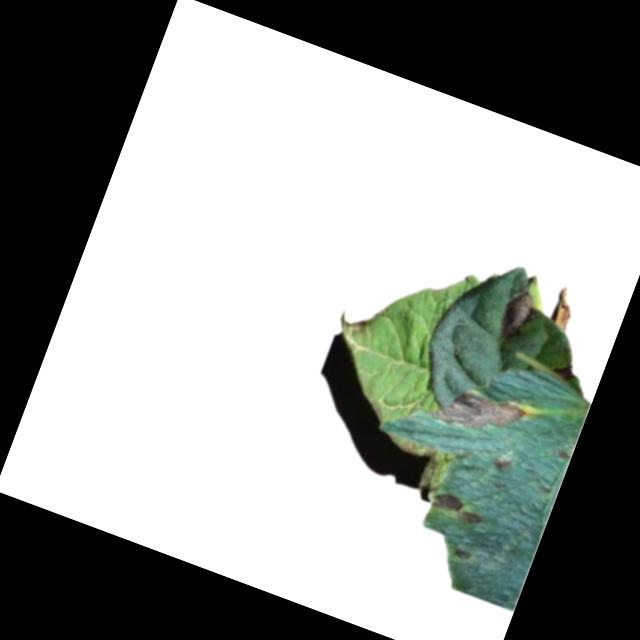Early_blight: (428, 379, 529, 451), (428, 490, 487, 529), (495, 286, 536, 342), (548, 284, 579, 330), (489, 453, 512, 475)
